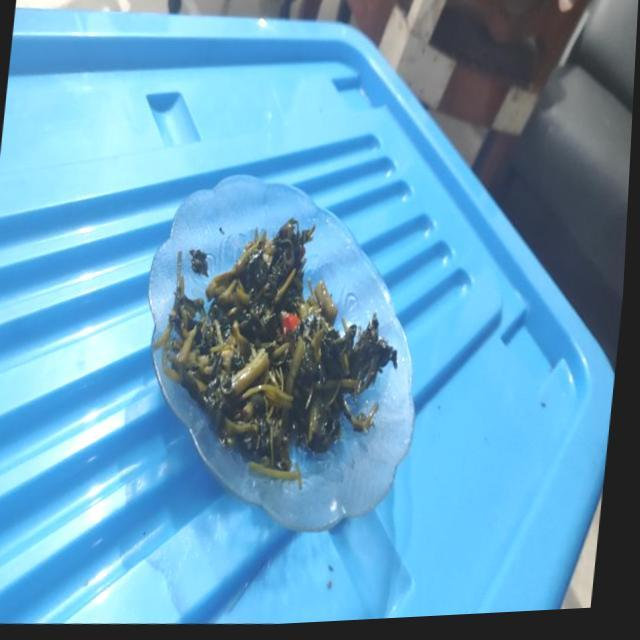tumis_kangkung: (164, 218, 396, 481)
